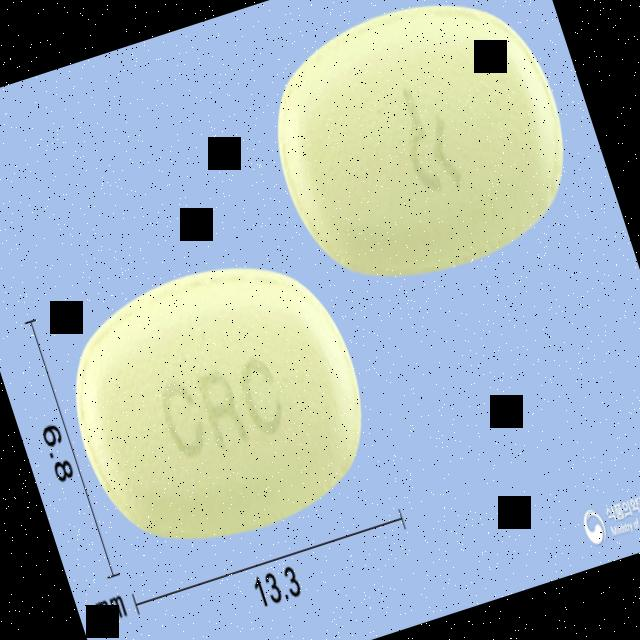Clirocin: (38, 226, 396, 578), (244, 0, 596, 312)
